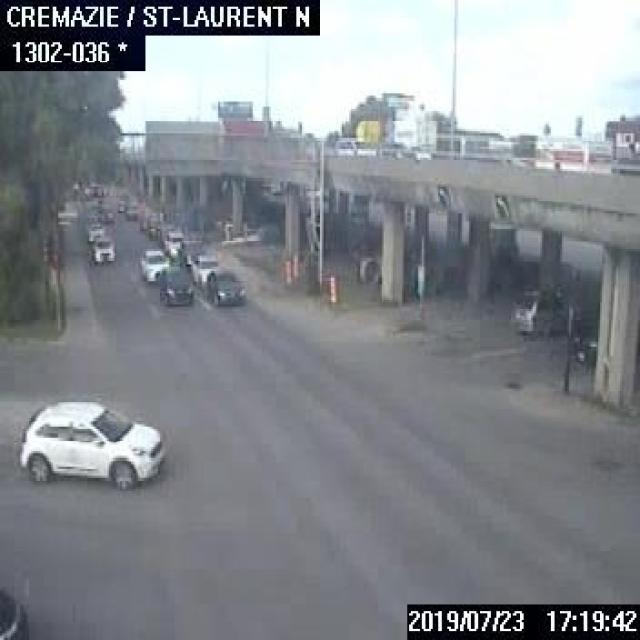construction: (283, 256, 291, 283), (328, 275, 336, 301), (291, 248, 298, 275)
vehicle: (16, 398, 164, 489), (508, 287, 586, 331), (206, 268, 246, 304), (158, 265, 191, 306), (565, 322, 595, 363), (0, 589, 25, 638), (190, 253, 228, 285), (139, 247, 171, 280), (178, 237, 206, 266), (162, 230, 186, 256), (92, 235, 114, 262), (86, 219, 104, 241)
